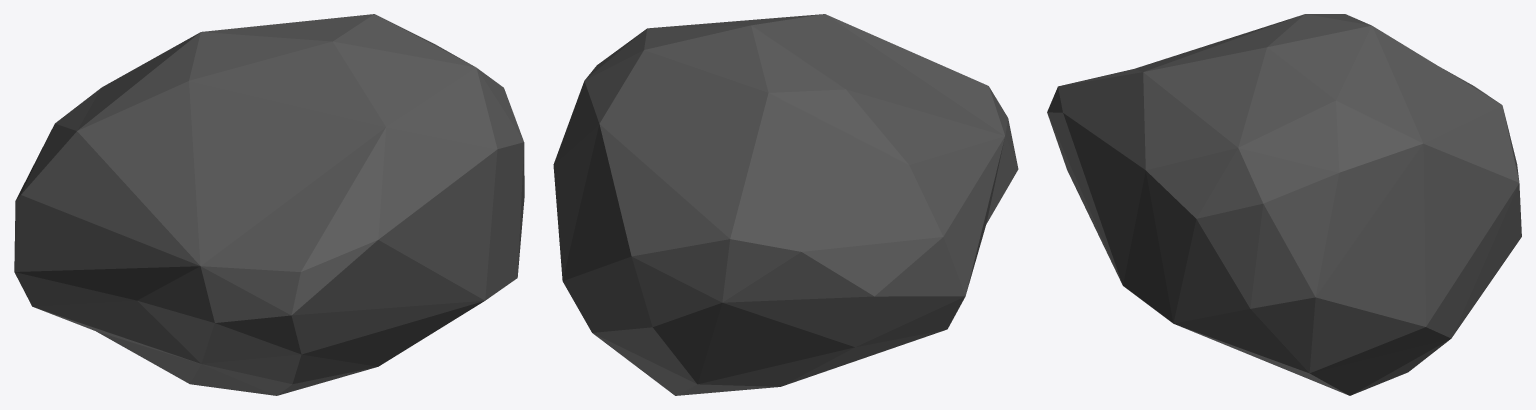
The model's file is stone.fbx.
The picture shows the model from 3 angles, left to right: view 1: azimuth 30°, elevation 25°; view 2: azimuth 150°, elevation 25°; view 3: azimuth 270°, elevation 25°; orthographic projection. The views are drawn at different scales.
Visible parts, largest first — view 1: stone; view 2: stone; view 3: stone.
Boxes of the visible parts, x1,y1,x2,y2 form: stone: (14,14,524,395); stone: (553,14,1018,395); stone: (1047,14,1521,395).
Bounding box in the file's own units: 101 × 72.51 × 96.83.
